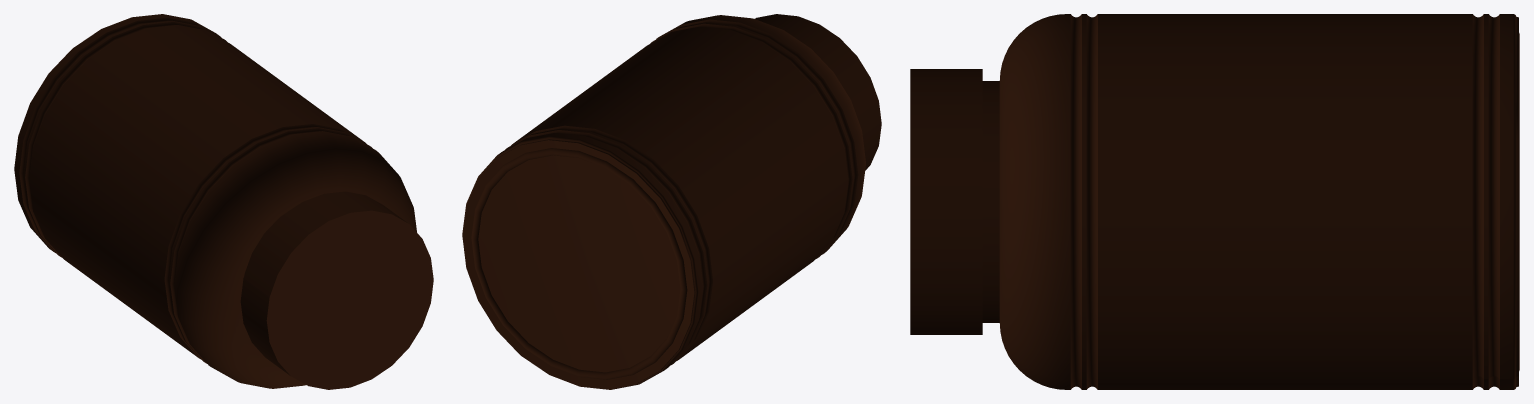
File: model_align.obj
3 views of the same model, side by side, from view 1: azimuth 30°, elevation 25°; view 2: azimuth 150°, elevation 25°; view 3: azimuth 270°, elevation 25° (orthographic). The views are drawn at different scales.
Parts seen in each view (by area): view 1: mesh1_mesh1-geometry, mesh9_mesh9-geometry; view 2: mesh1_mesh1-geometry, mesh9_mesh9-geometry; view 3: mesh1_mesh1-geometry, mesh9_mesh9-geometry.
Boxes of the visible parts, box(x1,y1,x2,y2) form: mesh1_mesh1-geometry: box(14, 14, 416, 388); mesh9_mesh9-geometry: box(240, 191, 433, 389); mesh1_mesh1-geometry: box(462, 15, 865, 389); mesh9_mesh9-geometry: box(755, 14, 881, 170); mesh1_mesh1-geometry: box(982, 14, 1519, 389); mesh9_mesh9-geometry: box(910, 69, 982, 334).
Size of the model in its own units: 0.0731 by 0.0731 by 0.118.
